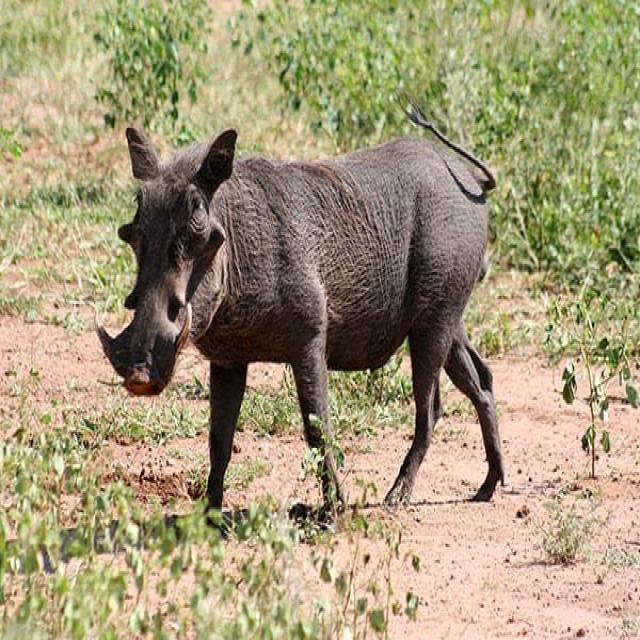Boar: (103, 122, 510, 506)
